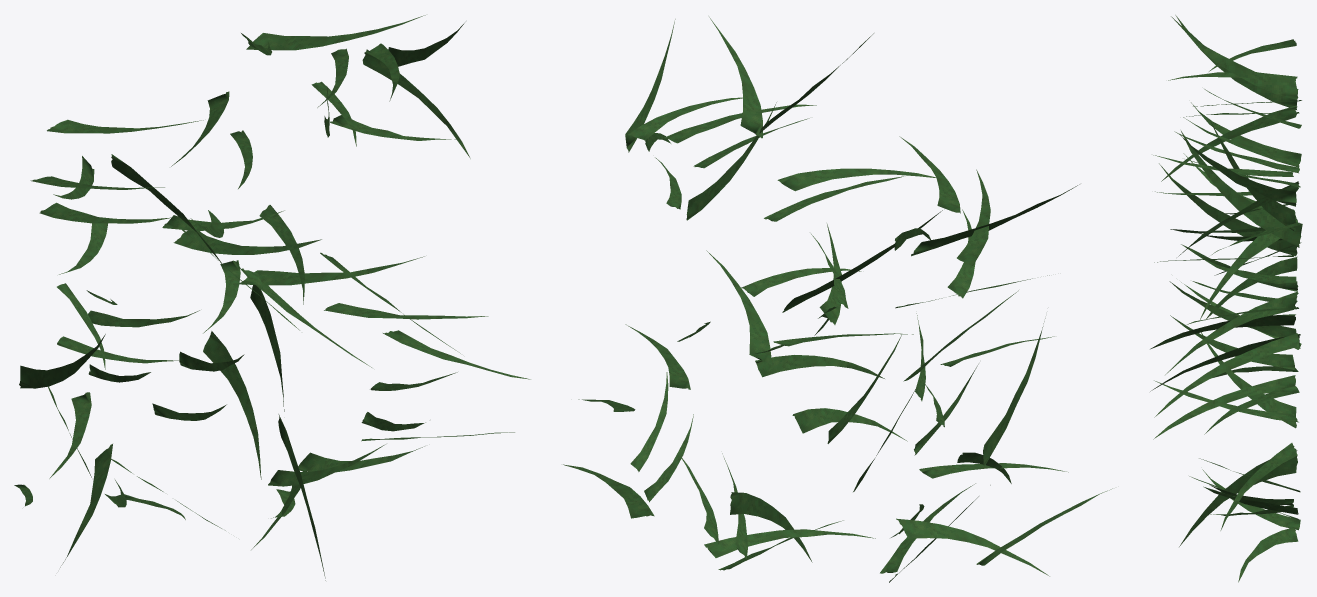
File: grass.fbx
3 renders of one model, left to right at view 1: azimuth 30°, elevation 25°; view 2: azimuth 150°, elevation 25°; view 3: azimuth 270°, elevation 25°, orthographic. The views are drawn at different scales.
Parts seen in each view (by area): view 1: Line01_None; view 2: Line01_None; view 3: Line01_None.
Part boxes in pixels (x1,y1,x2,y2): Line01_None: (14, 15, 530, 580); Line01_None: (563, 17, 1112, 582); Line01_None: (1150, 15, 1302, 582).
Size of the model in its own units: 73.12 by 72.51 by 20.06.
1 material, 1 textured.
